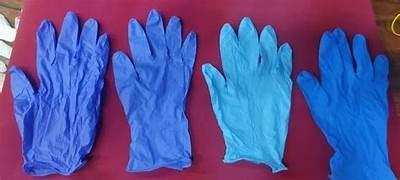Glove: (10, 12, 108, 175), (297, 28, 395, 179), (202, 17, 291, 171), (112, 10, 195, 171)
